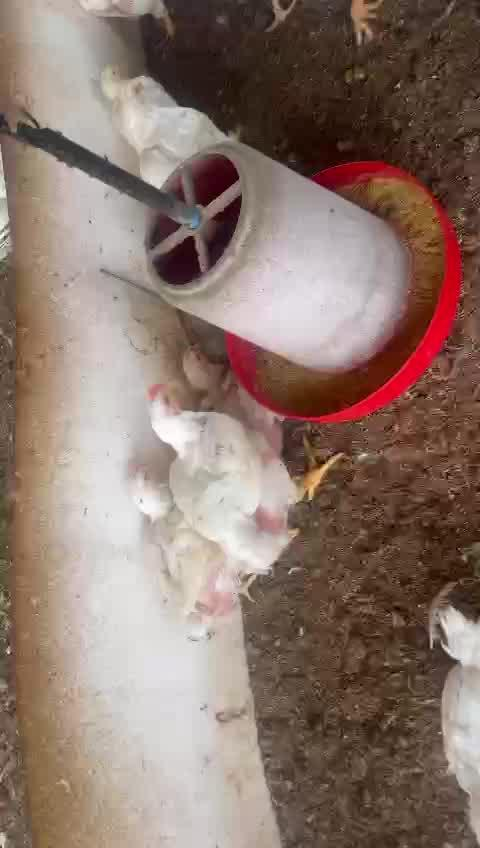AbNormal: (173, 339, 268, 431), (90, 59, 174, 123)
Normal: (143, 382, 320, 568), (121, 459, 236, 612), (117, 84, 233, 199)
